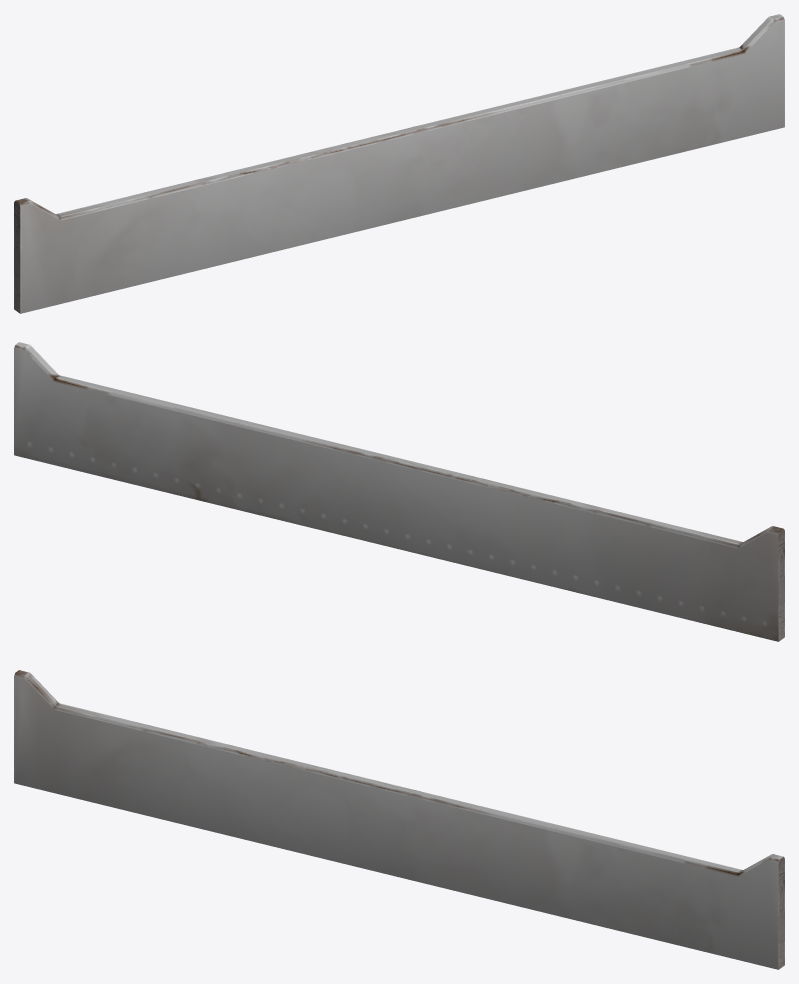
Rendered from HubBalk.FBX.
3 views of the same model, one above another, from view 1: azimuth 30°, elevation 25°; view 2: azimuth 150°, elevation 25°; view 3: azimuth 330°, elevation 25° (orthographic).
Visible parts, largest first — view 1: HubBalk_LOD0; view 2: HubBalk_LOD0; view 3: HubBalk_LOD0.
Boxes of the visible parts, bbox=[...] form: HubBalk_LOD0: bbox=[14, 14, 784, 313]; HubBalk_LOD0: bbox=[14, 342, 784, 641]; HubBalk_LOD0: bbox=[14, 670, 784, 969].
Bounding box in the file's own units: 13.89 × 1.9 × 0.1984.
